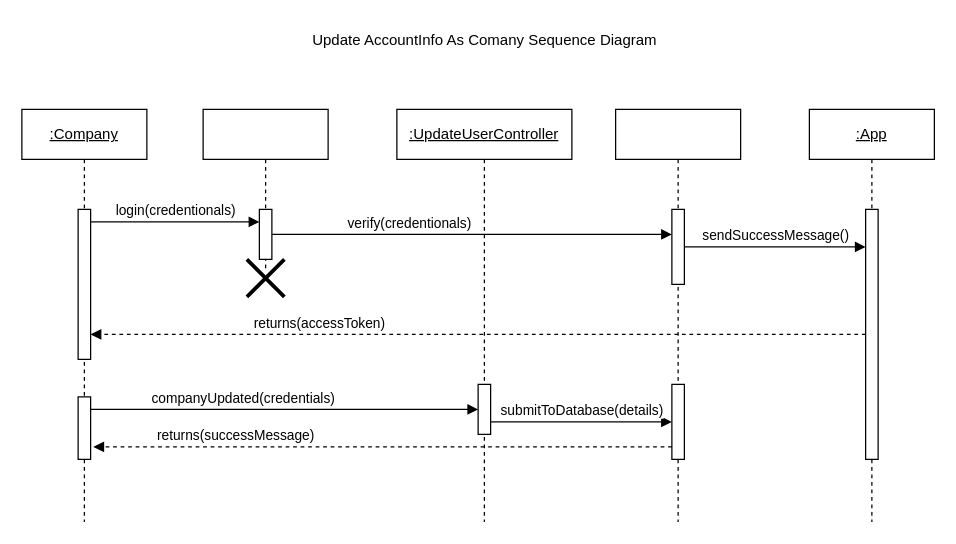
Image size: 956x544. Some labels were removed from this diagram. Each missing label, with the box of its shape:
:Database: (614, 108, 741, 522)
:LoginController: (202, 108, 328, 272)
